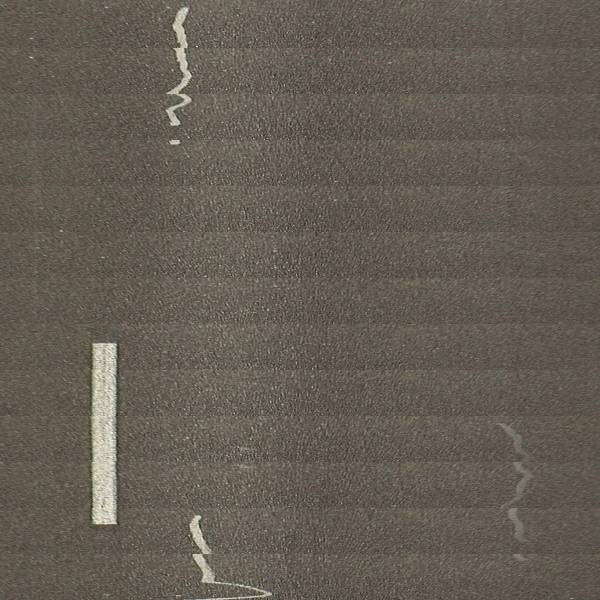road_damage: (183, 512, 271, 600), (494, 420, 542, 571), (162, 8, 198, 150)
